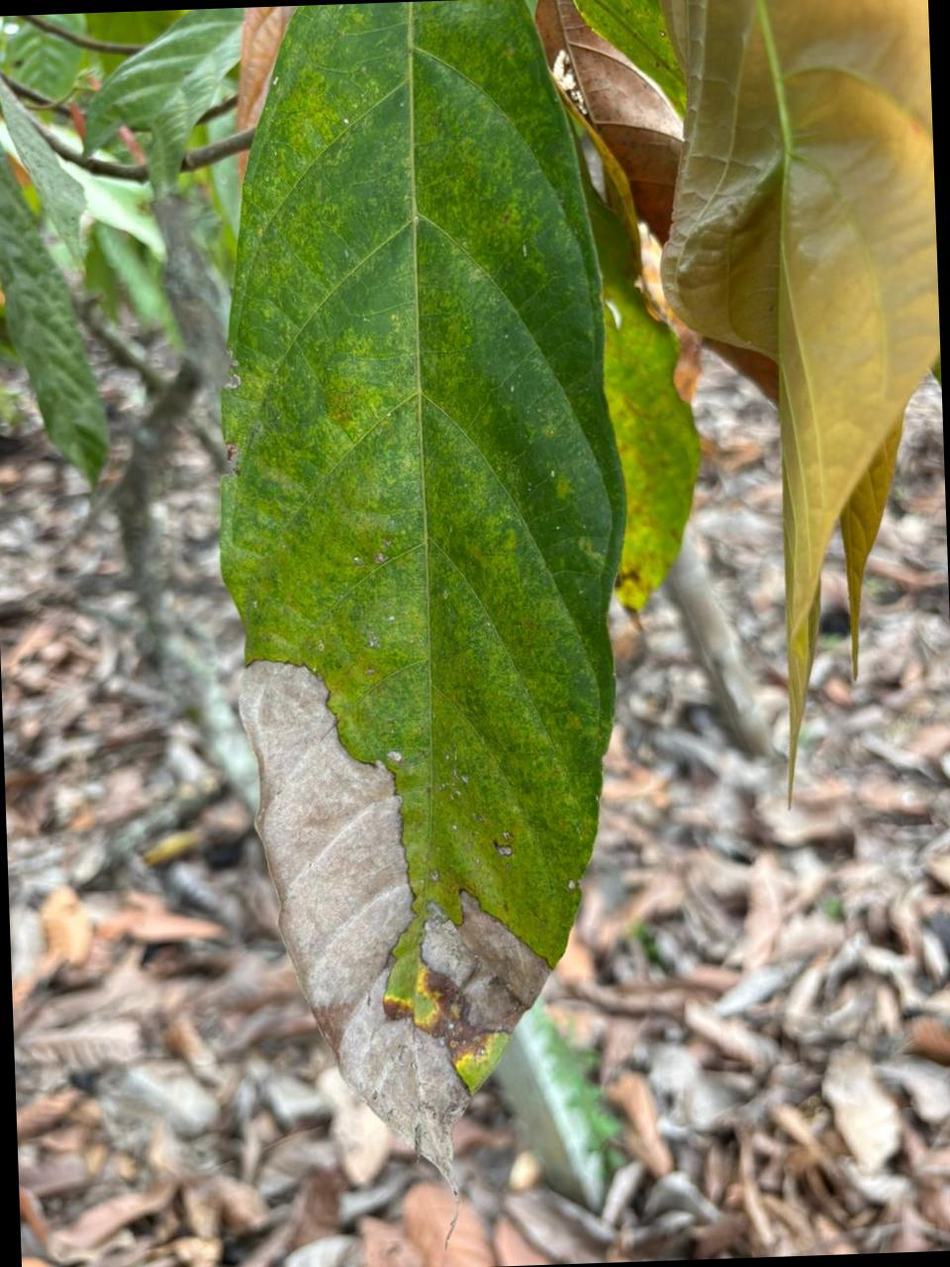Potasio: (222, 0, 623, 1168)
